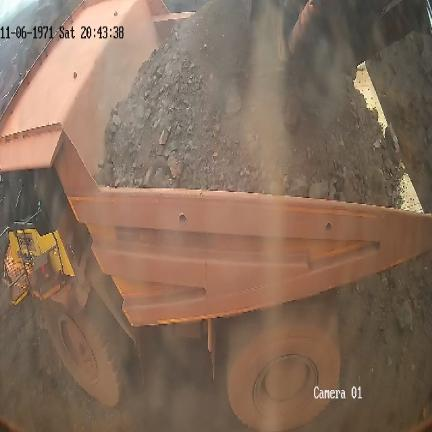pile: (105, 0, 394, 204), (342, 251, 432, 377), (371, 34, 432, 214)
